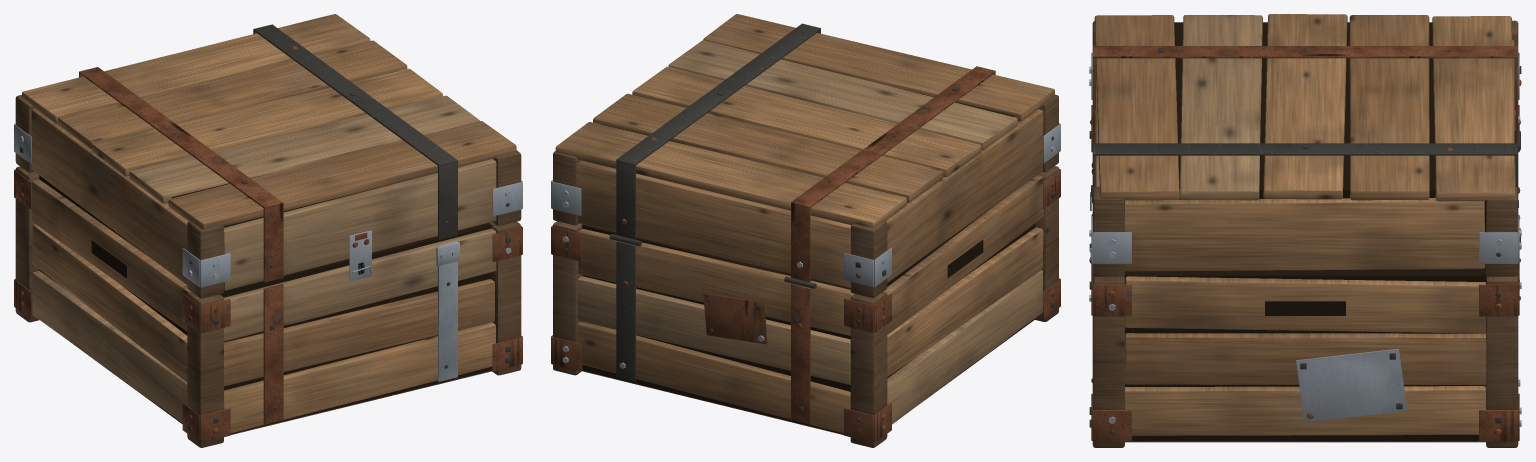
File: chest.glb
3 renders of one model, left to right at view 1: azimuth 30°, elevation 25°; view 2: azimuth 150°, elevation 25°; view 3: azimuth 270°, elevation 25°, orthographic. The views are drawn at different scales.
Visible parts, largest first — view 1: Lid, Body; view 2: Lid, Body; view 3: Lid, Body.
Boxes of the visible parts, x1=… form: Lid: x1=14, y1=14, x2=522, y2=298; Body: x1=14, y1=166, x2=522, y2=447; Lid: x1=551, y1=14, x2=1060, y2=297; Body: x1=551, y1=166, x2=1060, y2=447; Lid: x1=1089, y1=14, x2=1521, y2=276; Body: x1=1089, y1=105, x2=1521, y2=447.
Size of the model in its own units: 0.7494 by 0.5 by 0.7494.
10 materials, 8 textured.
